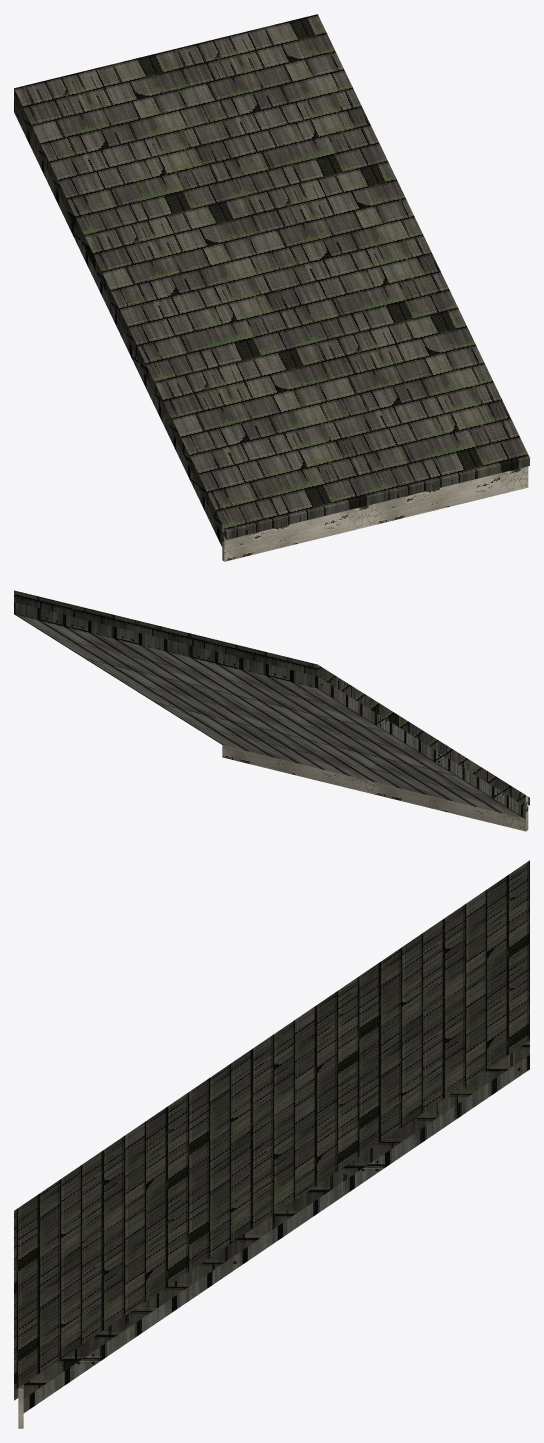
Rendered from house_roof_slope.glb.
3 views of the same model, one above another, from view 1: azimuth 30°, elevation 25°; view 2: azimuth 150°, elevation 25°; view 3: azimuth 270°, elevation 25° (orthographic). The views are drawn at different scales.
Visible parts, largest first — view 1: house_roof_slope; view 2: house_roof_slope; view 3: house_roof_slope.
Part boxes in pixels (x1,y1,x2,y2): house_roof_slope: (14, 14, 529, 561); house_roof_slope: (14, 590, 529, 831); house_roof_slope: (14, 860, 529, 1428).
Bounding box in the file's own units: 2 × 2.01 × 2.42.
Materials: 3 (3 with a texture image).
